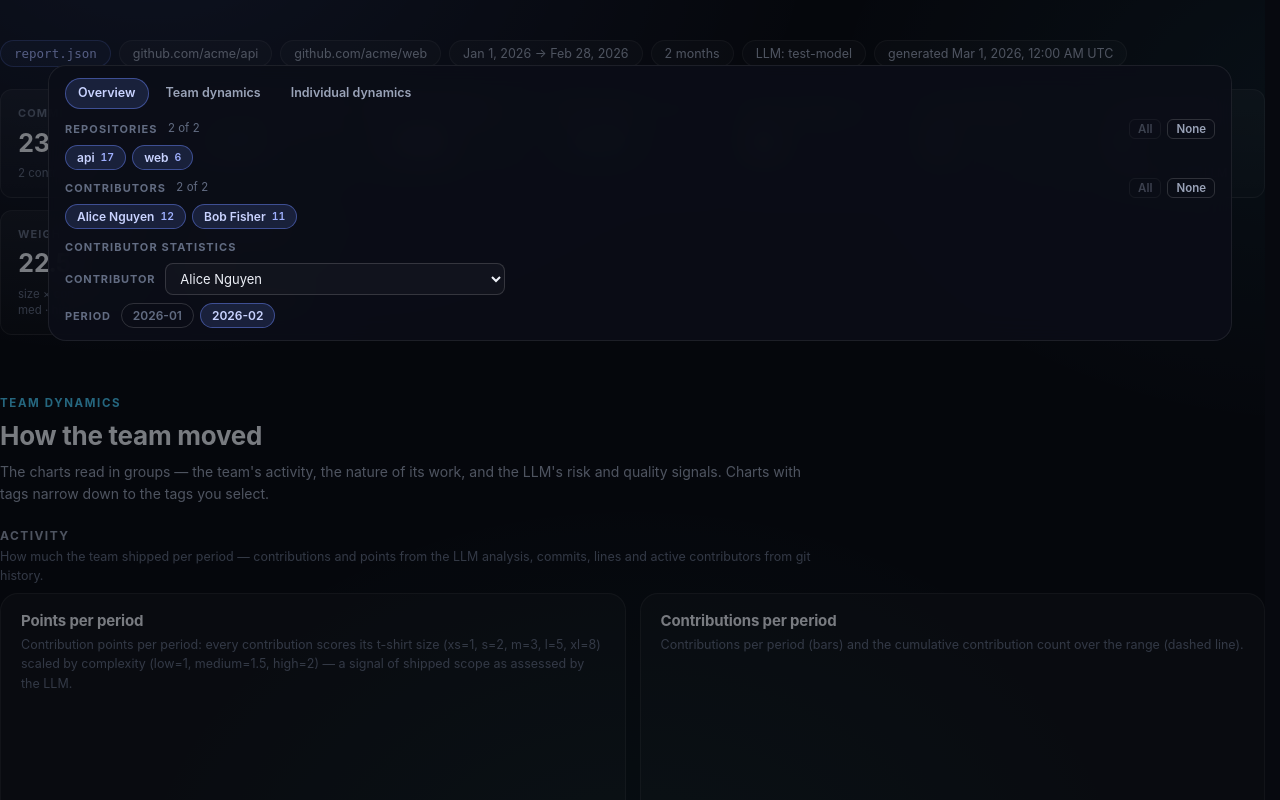
Test: Dashboard scope filters › recomputes the overview when a repository is toggled off
# The nav panel labels repositories with their short name.
Click the button "api 17". click: (96, 157)
box: [65,145,126,170]
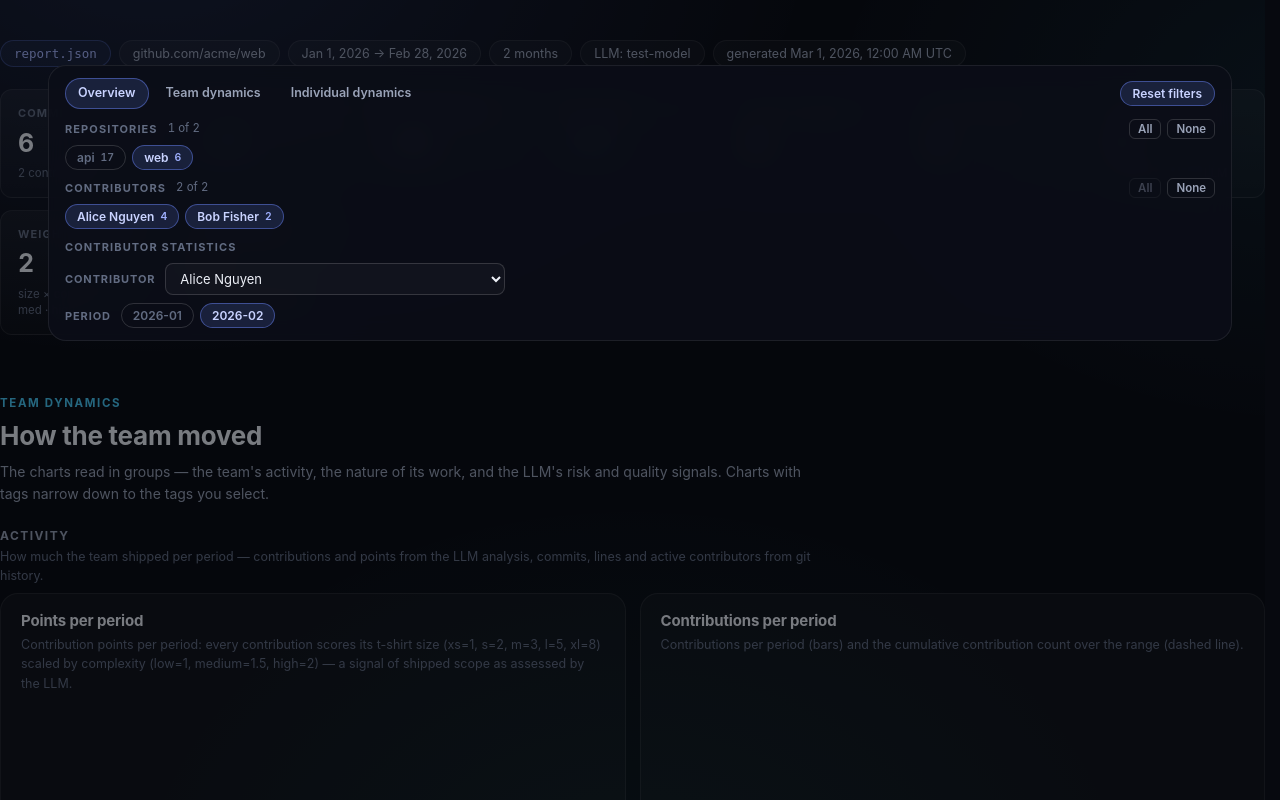
Now the text "1 of 2" is shown, box [168,120,200,137]
Now the button "Reset filters" is shown, box [1120,81,1215,106]
